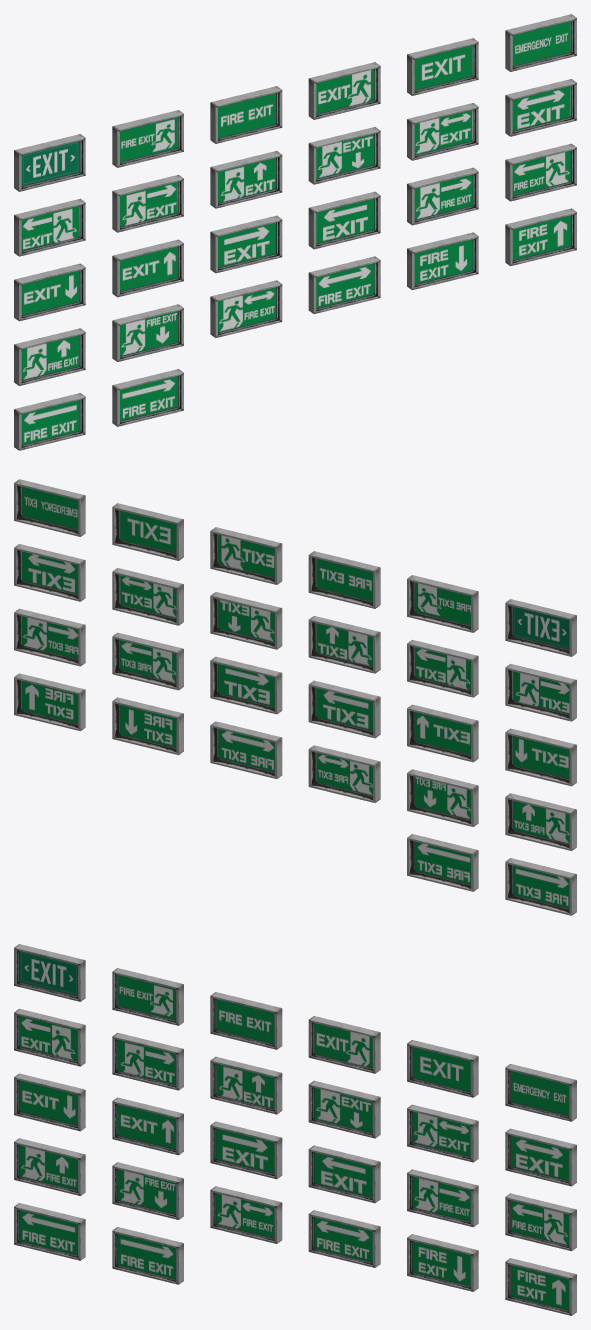
The model's file is sing_-_78mb_-_26part.glb.
The picture shows the model from 3 angles, top to bottom: view 1: azimuth 30°, elevation 25°; view 2: azimuth 150°, elevation 25°; view 3: azimuth 330°, elevation 25°; orthographic projection.
Visible parts, largest first — view 1: all; view 2: all; view 3: all.
Boxes of the visible parts, box(x1,y1,x2,y2) form: all: box(14, 14, 576, 450); all: box(14, 479, 576, 915); all: box(14, 944, 576, 1315).
Size of the model in its own units: 3.07 by 1.56 by 0.05.
Materials: 26 (26 with a texture image).
